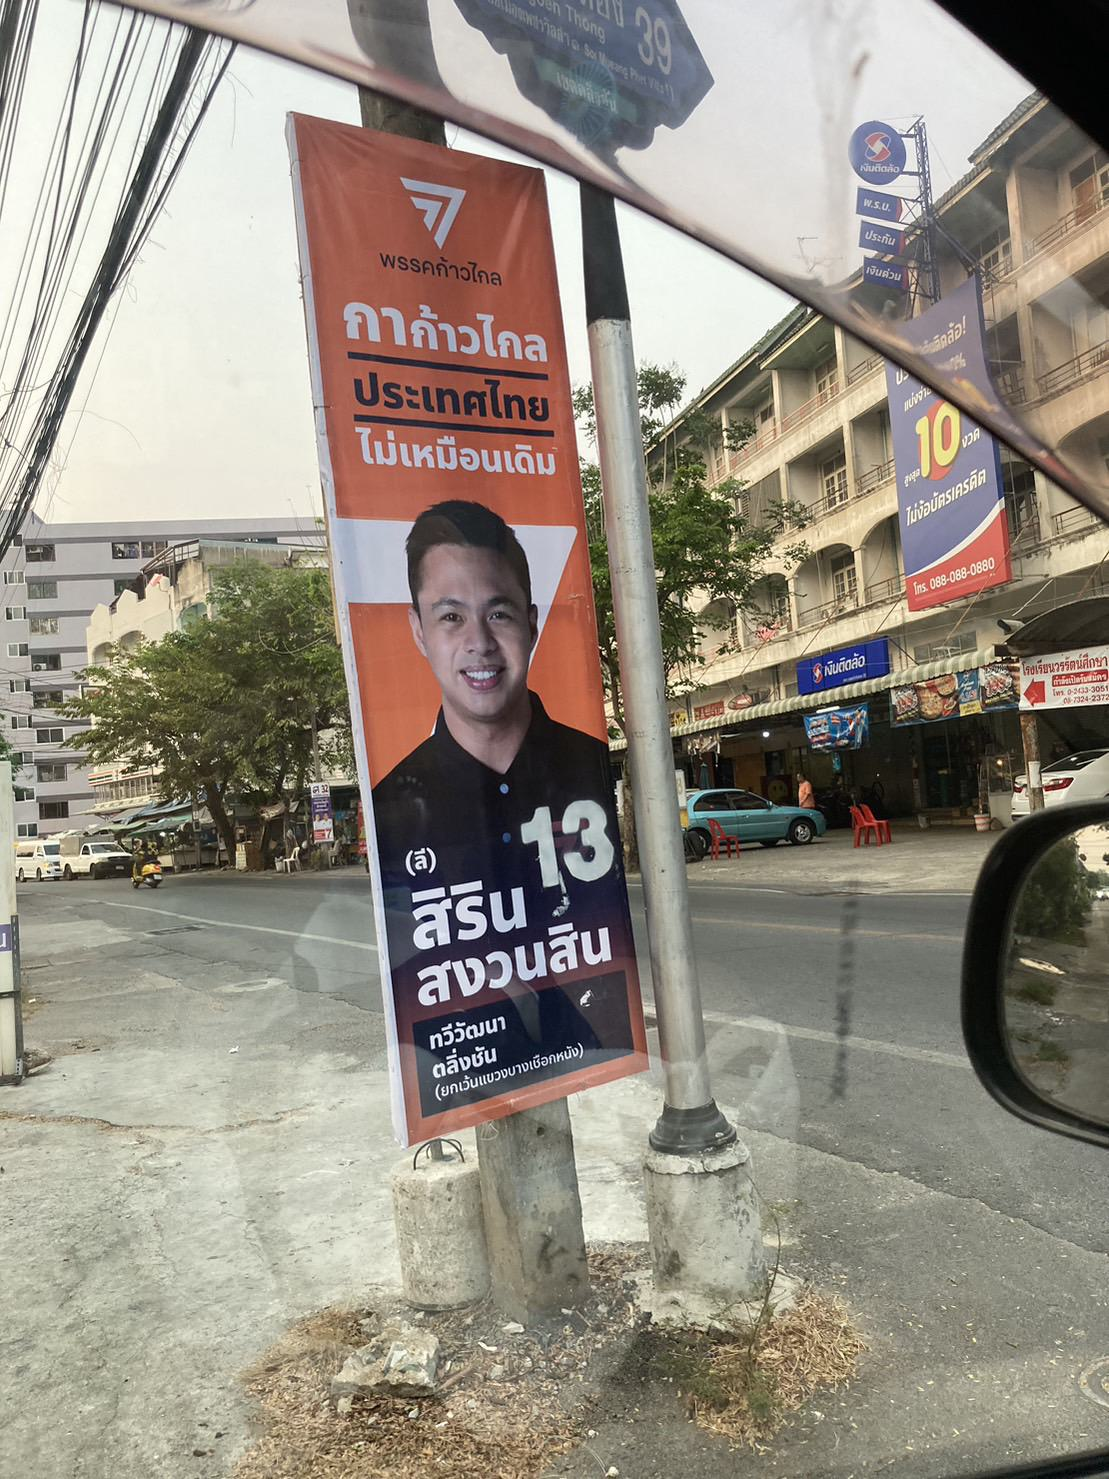Banner: (250, 104, 642, 1116)
